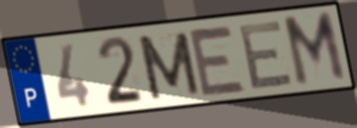2: (95, 34, 146, 107)
4: (55, 41, 94, 110)
E: (185, 24, 249, 98), (237, 17, 296, 92)
M: (279, 8, 349, 90), (134, 29, 203, 102)
